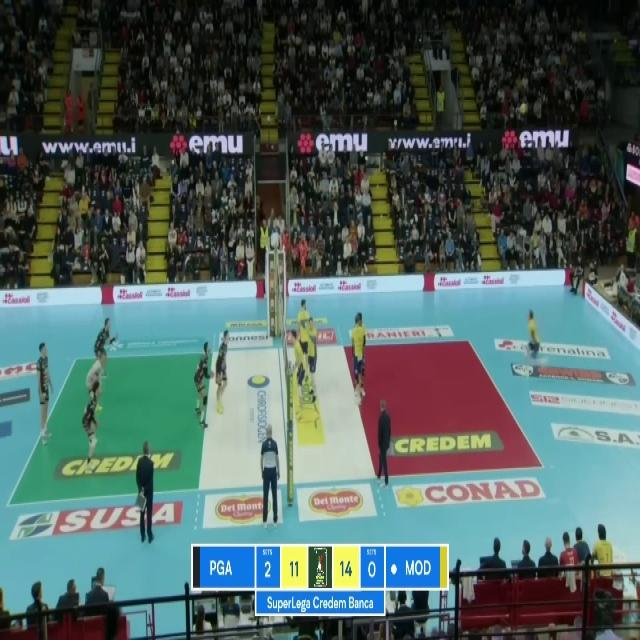volleyball court: (1, 338, 547, 502)
